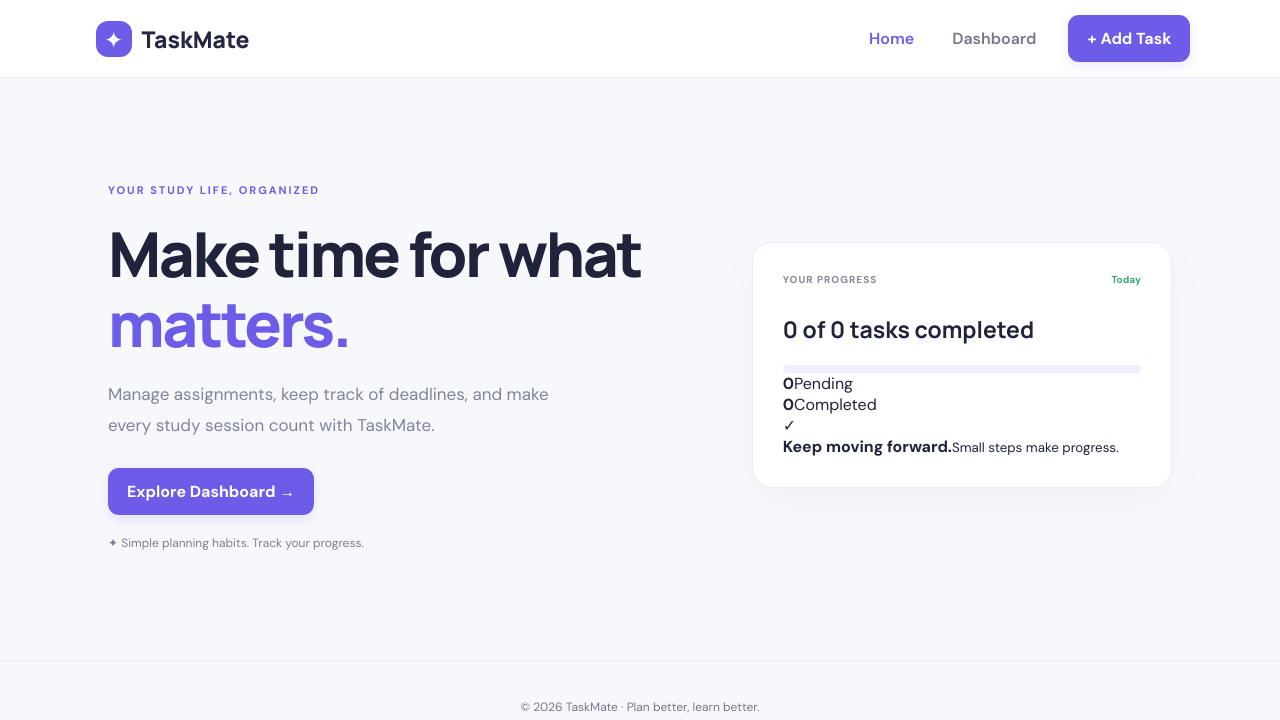
Test: TaskMate application - Week 5 testing › shows an error when the backend is unavailable
Click the button "Dashboard" at (994, 38), box [946,27,1042,50]
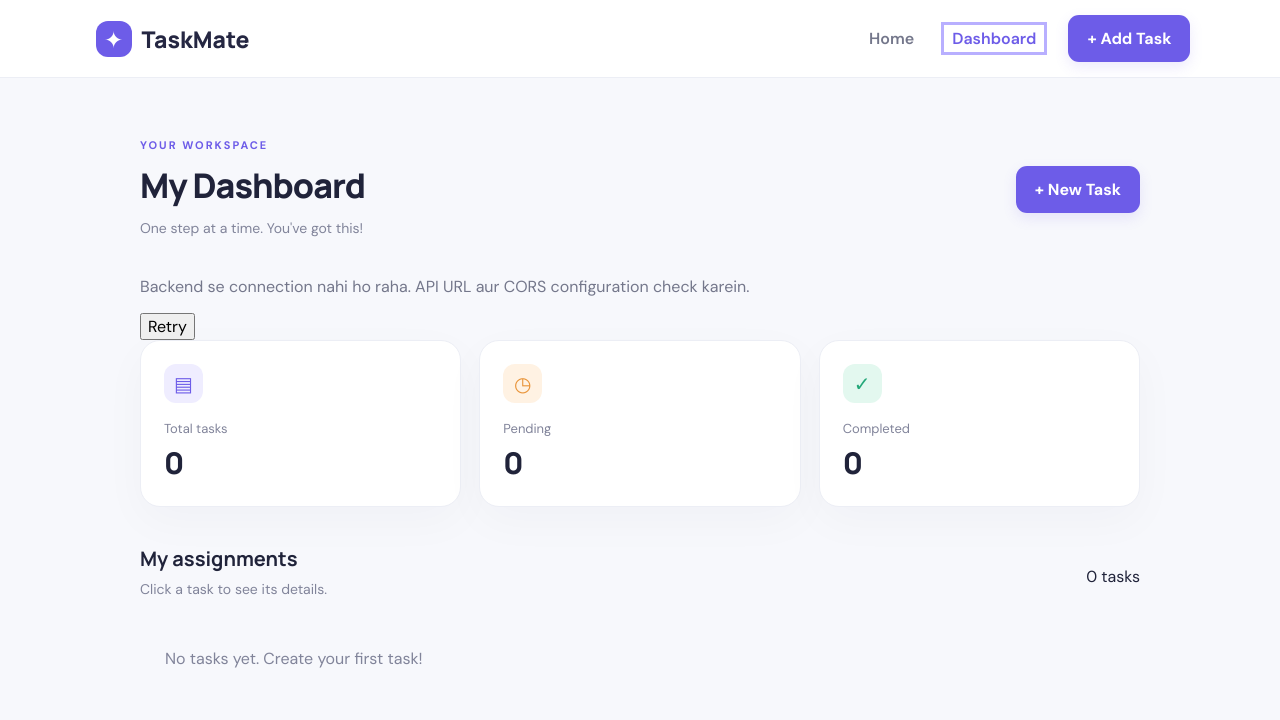
Now the text "Backend se connection nahi ho raha" is shown, box [140,276,750,297]
